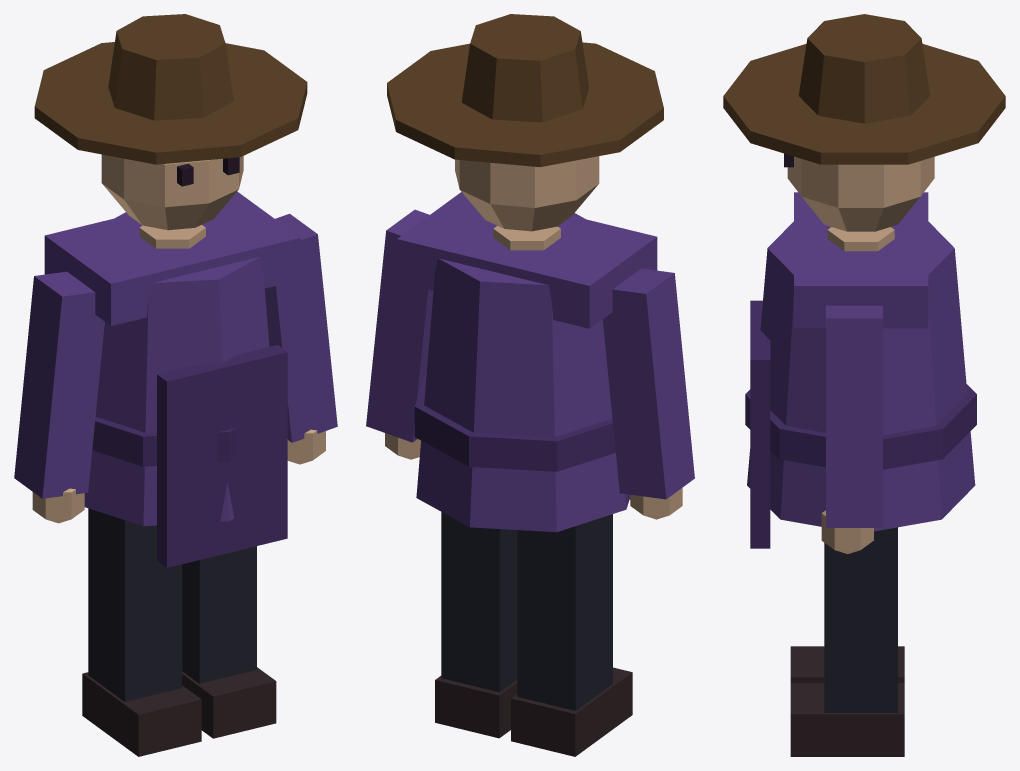
Rendered from person_mags.gltf.
The picture shows the model from 3 angles, left to right: view 1: azimuth 30°, elevation 25°; view 2: azimuth 150°, elevation 25°; view 3: azimuth 270°, elevation 25°; orthographic projection.
Parts seen in each view (by area): view 1: body, face; view 2: body, face; view 3: body, face.
Part boxes in pixels (<box>): body: <box>14,191,337,756</box>; face: <box>34,14,307,230</box>; body: <box>366,192,694,756</box>; face: <box>387,14,663,231</box>; body: <box>745,192,976,756</box>; face: <box>723,14,1005,231</box>.
Bounding box in the file's own units: 1.03 × 2.25 × 0.84.
